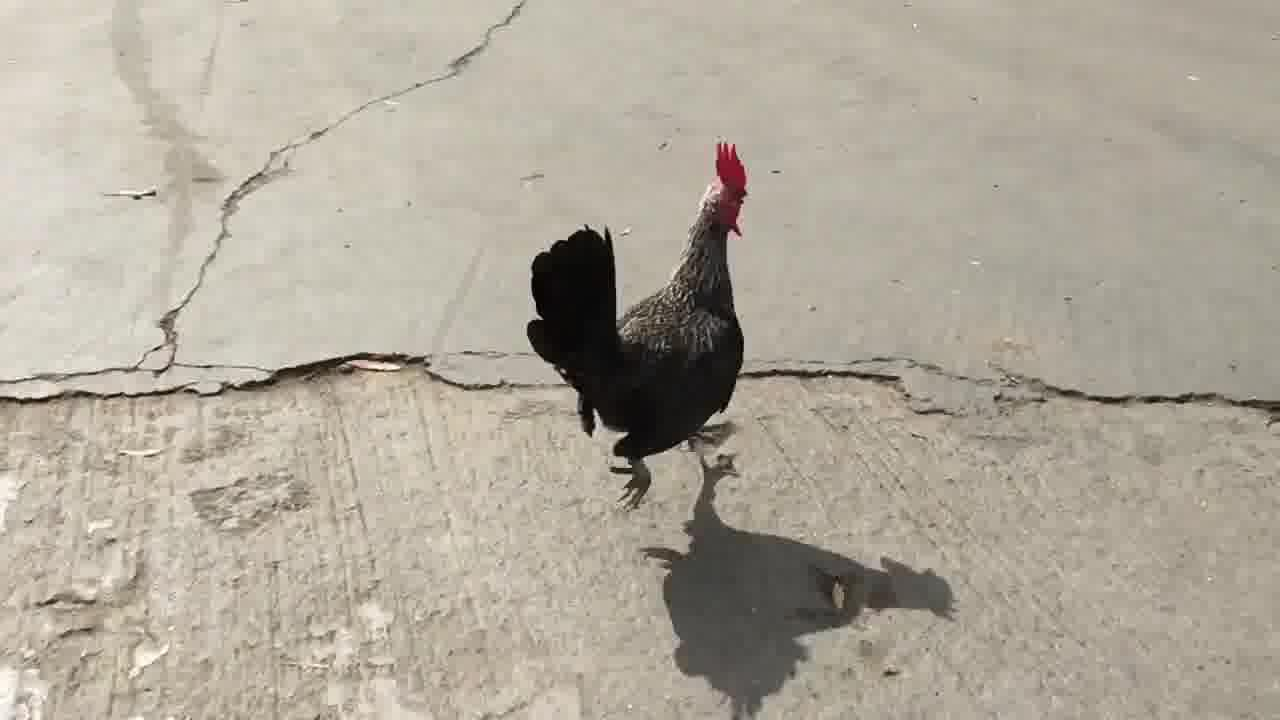Normal: (540, 152, 834, 492)
